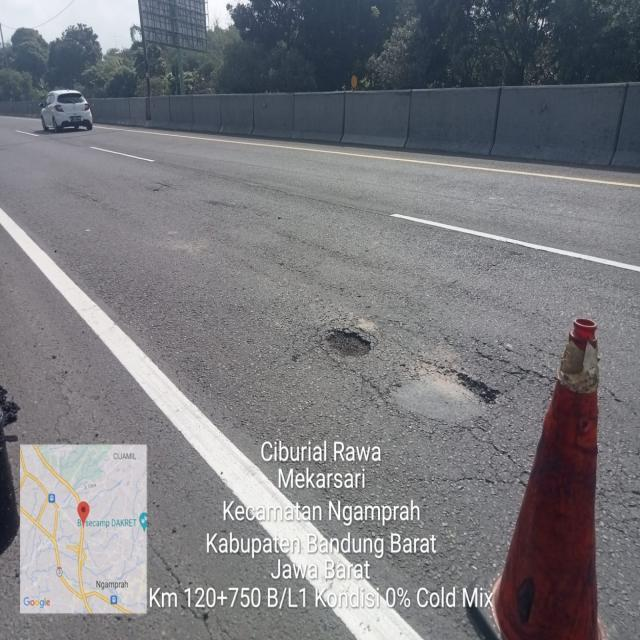Buraco: (453, 371, 505, 408), (321, 326, 375, 361), (150, 180, 172, 193)
